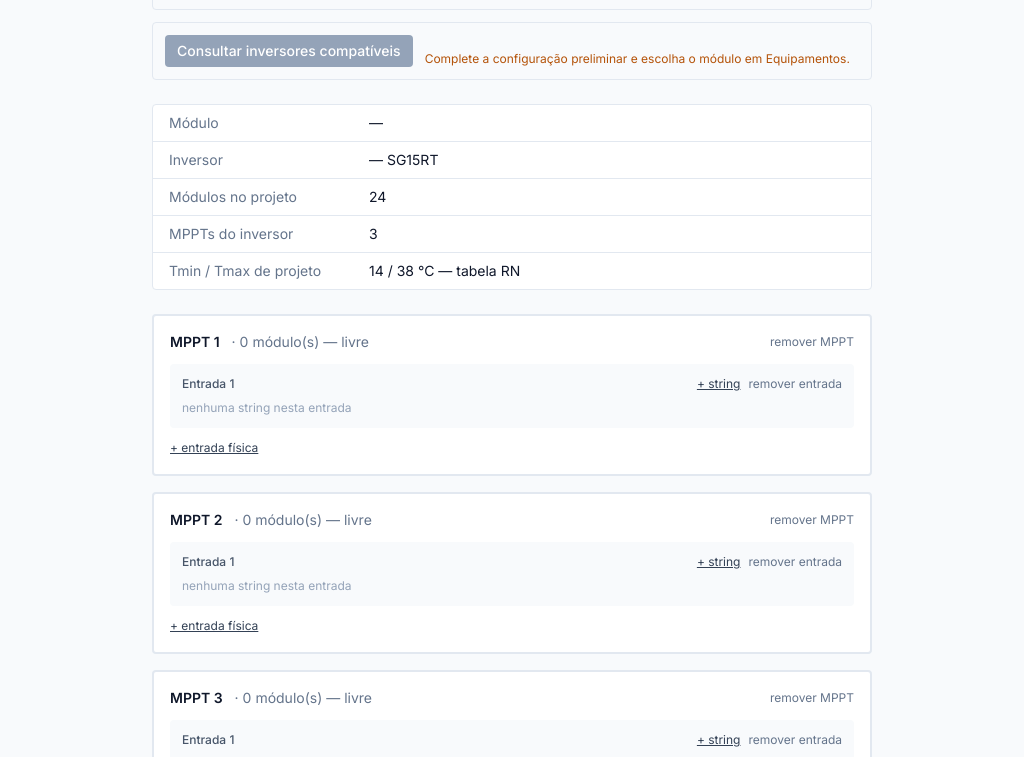
Test: A1 · separador do MPPT › 18 · MPPT 1 com 12 módulos não vira "MPPT 112"
(page scrolled)
Expected: the heading "MPPT 1 · 0 módulo(s) — livre" is shown, [170,332,369,352]
Click the 1st button "+ string".
click(719, 384)  # box [697,376,740,392]
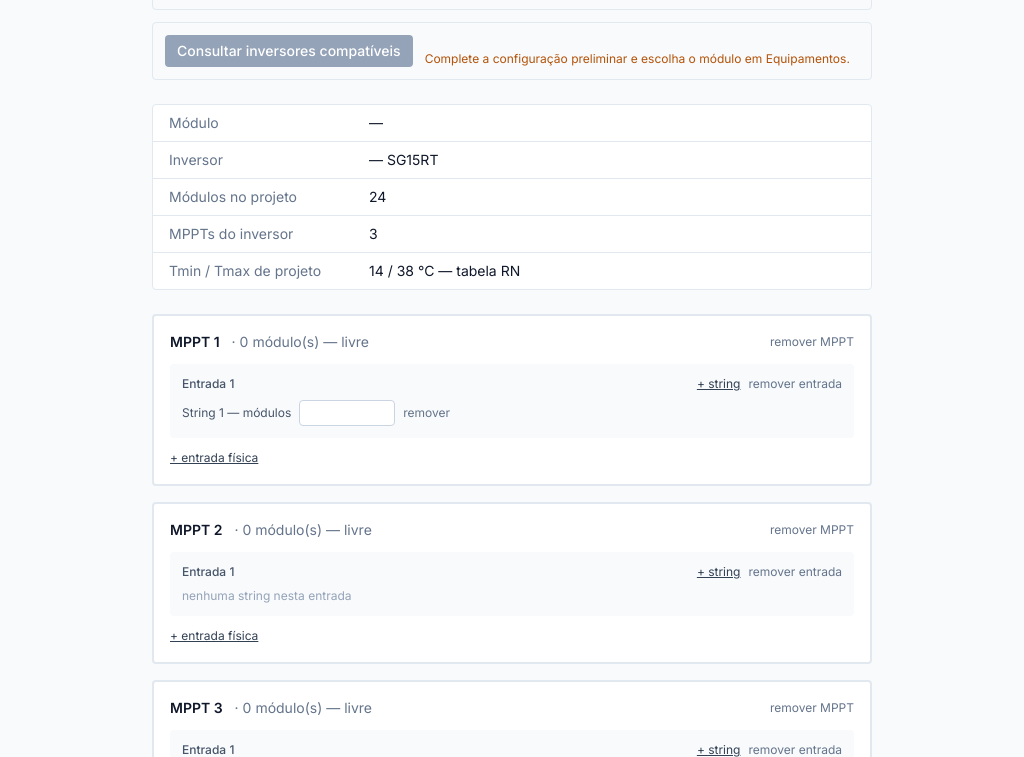
Type "12" into the number field named "MPPT 1 entrada 1 string 1 módulos".
click(347, 413); type("12")  # box [299,400,395,426]
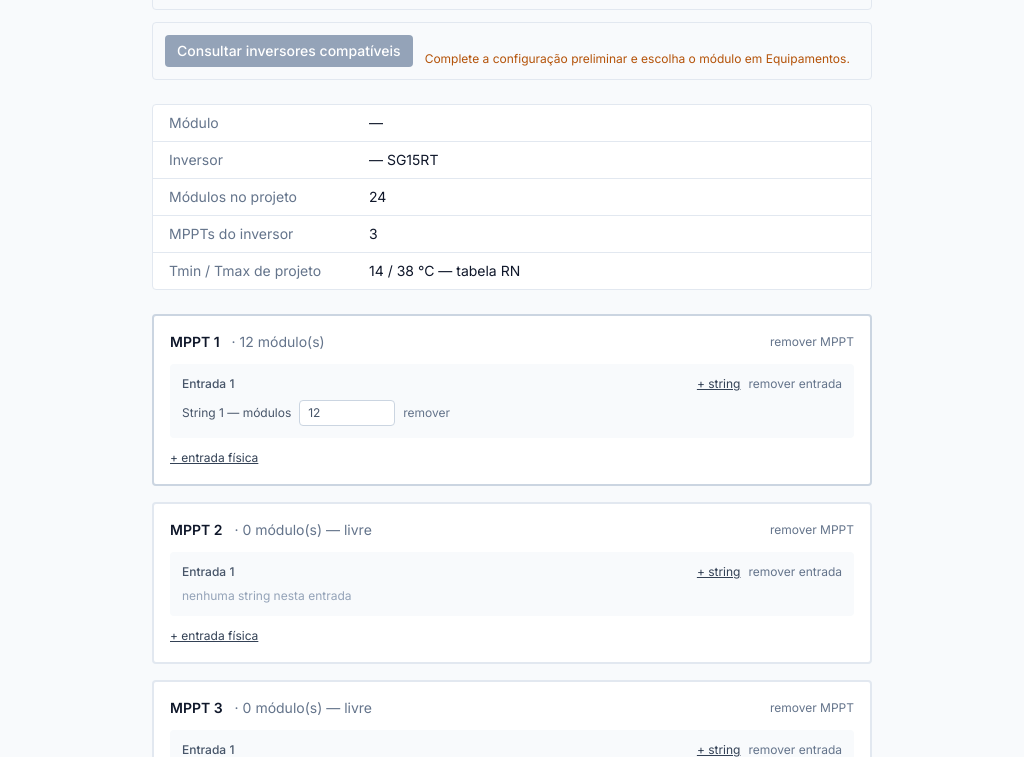
Expected: the heading "MPPT 1 · 12 módulo(s)" is shown, [170,332,325,352]
